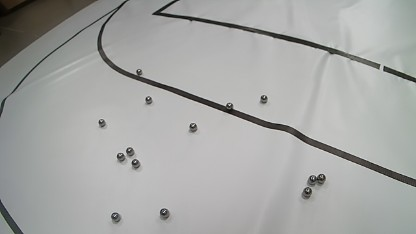ironball: (159, 208, 170, 219), (302, 186, 312, 198), (316, 173, 326, 184), (308, 174, 317, 185), (111, 212, 120, 222), (131, 159, 140, 168), (116, 152, 125, 161), (126, 147, 134, 156), (189, 122, 197, 131), (225, 102, 234, 110), (260, 95, 268, 103), (98, 118, 105, 127), (145, 96, 152, 104), (136, 68, 143, 76)
